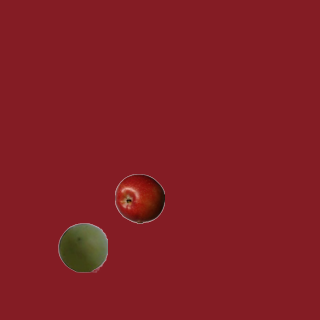Apple Braeburn: (114, 173, 164, 223)
Grape White 4: (57, 222, 107, 272)
